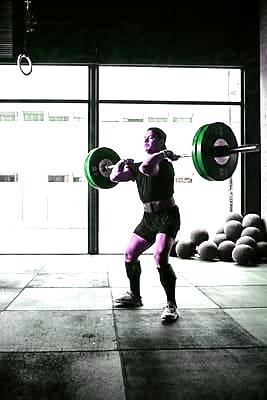Barbell: (253, 140, 262, 153)
